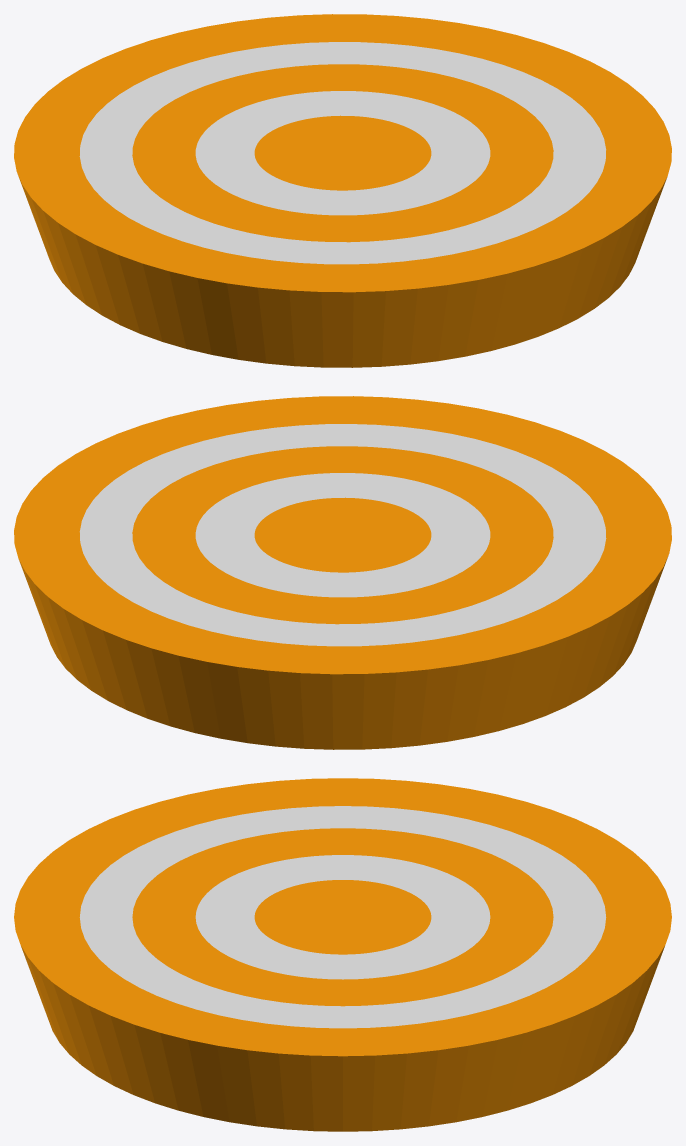
The model's file is Board_Orange.fbx.
3 views of the same model, one above another, from view 1: azimuth 30°, elevation 25°; view 2: azimuth 150°, elevation 25°; view 3: azimuth 270°, elevation 25° (orthographic).
Parts seen in each view (by area): view 1: Board_Orange; view 2: Board_Orange; view 3: Board_Orange.
Part boxes in pixels (bbox=[...]): Board_Orange: bbox=[14, 14, 671, 367]; Board_Orange: bbox=[14, 396, 671, 749]; Board_Orange: bbox=[14, 778, 671, 1131].
Bounding box in the file's own units: 200 × 30 × 200.
